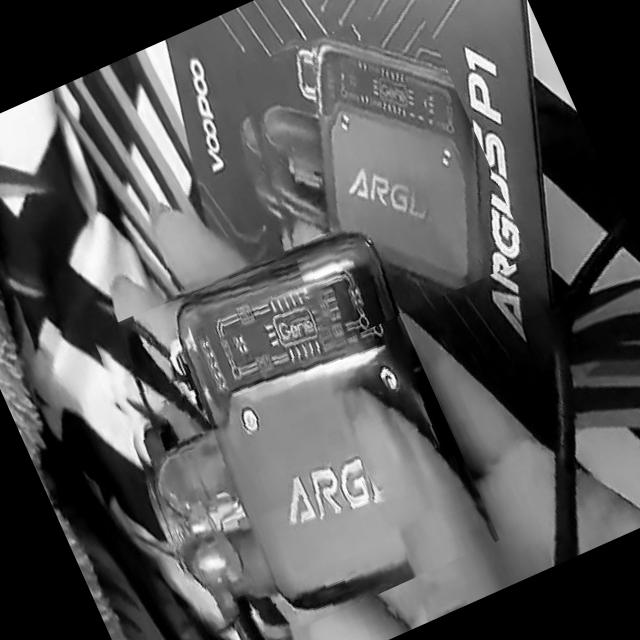Hazard: (76, 214, 499, 640), (207, 0, 530, 347)
